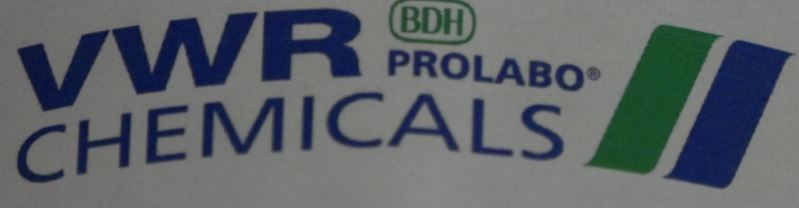VWR: (15, 1, 794, 195)
